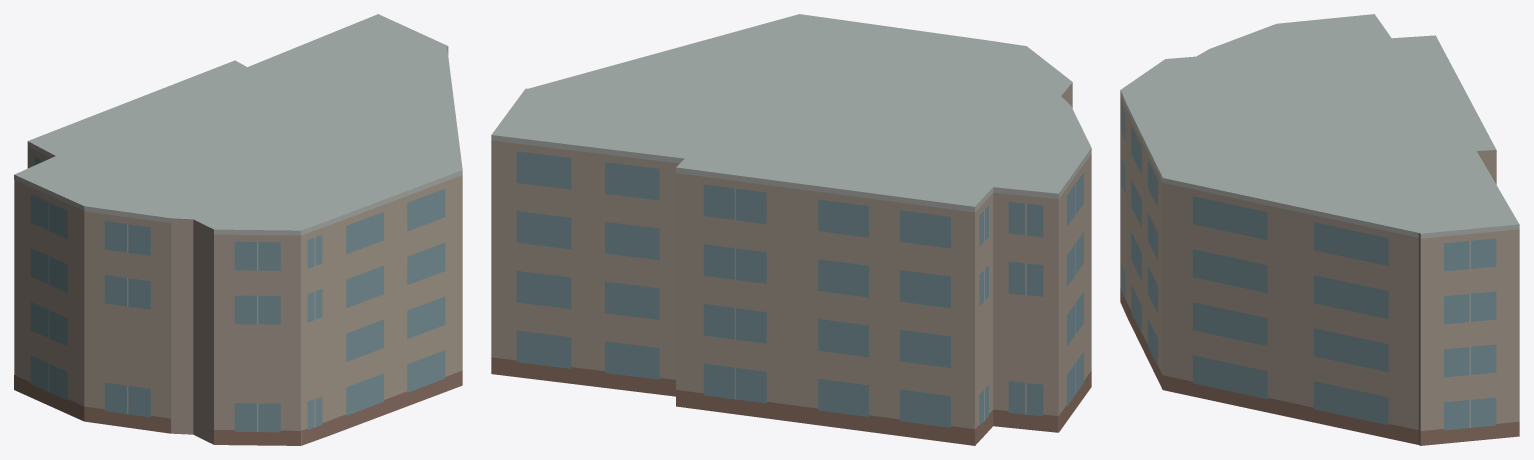
Rendered from survey-upis-32690763.glb.
3 renders of one model, left to right at view 1: azimuth 30°, elevation 25°; view 2: azimuth 150°, elevation 25°; view 3: azimuth 270°, elevation 25°, orthographic. The views are drawn at different scales.
Parts seen in each view (by area): view 1: survey-upis-32690763.tmp; view 2: survey-upis-32690763.tmp; view 3: survey-upis-32690763.tmp.
Part boxes in pixels (box(x1,y1,x2,y2)): survey-upis-32690763.tmp: box(14, 14, 462, 445); survey-upis-32690763.tmp: box(491, 14, 1091, 445); survey-upis-32690763.tmp: box(1120, 14, 1519, 445).
Bounding box in the file's own units: 23.34 × 10.5 × 17.92.
